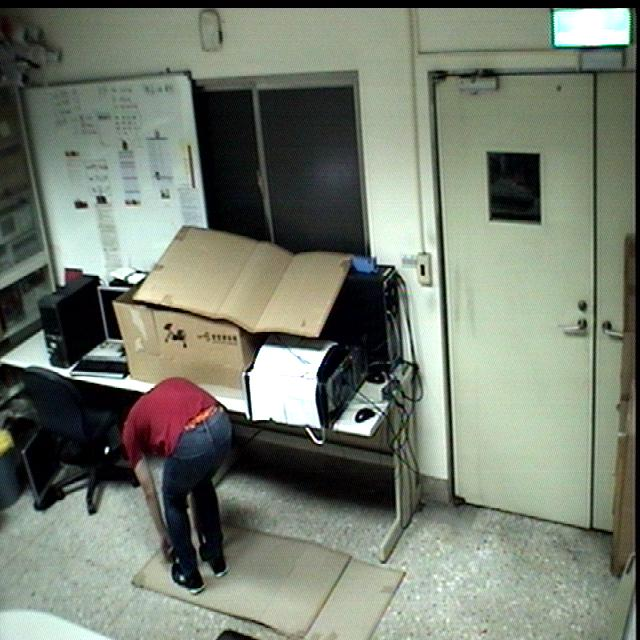bend: (109, 378, 234, 596)
